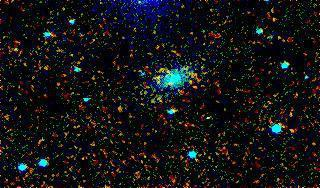star: (147, 65, 177, 95)
